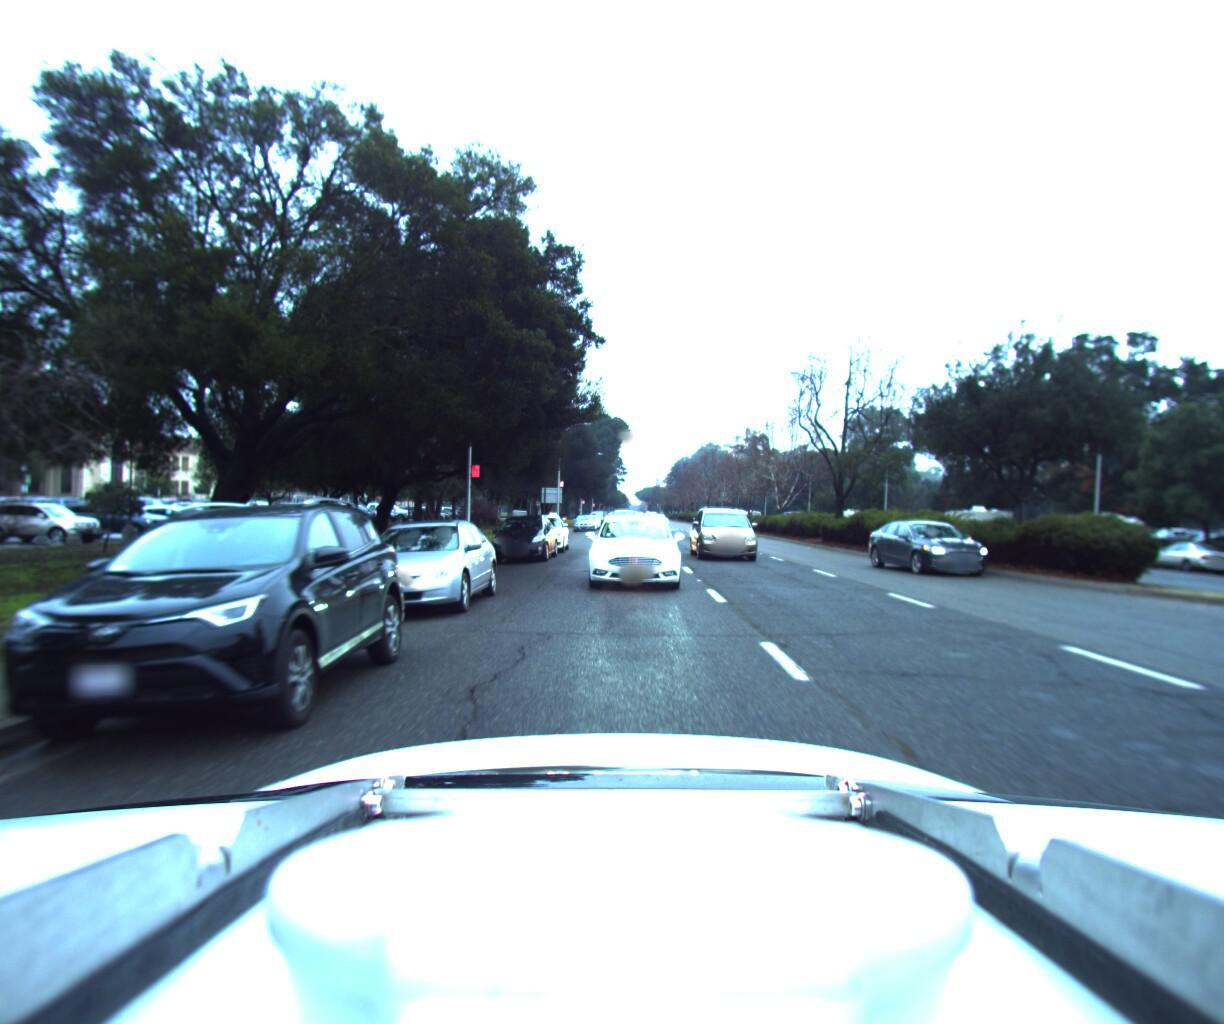car: (328, 507, 511, 627), (871, 511, 1012, 573), (585, 505, 681, 591), (686, 495, 771, 557), (487, 503, 562, 561), (1137, 531, 1224, 573), (516, 504, 571, 552), (603, 503, 632, 530), (572, 505, 597, 525)
other_vehicle: (1045, 502, 1150, 560), (939, 495, 1018, 546)
